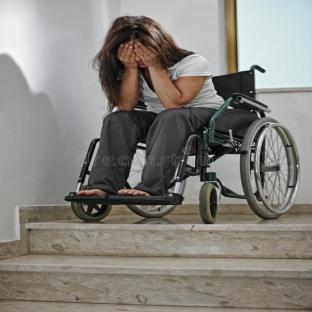Human: (77, 16, 223, 196)
